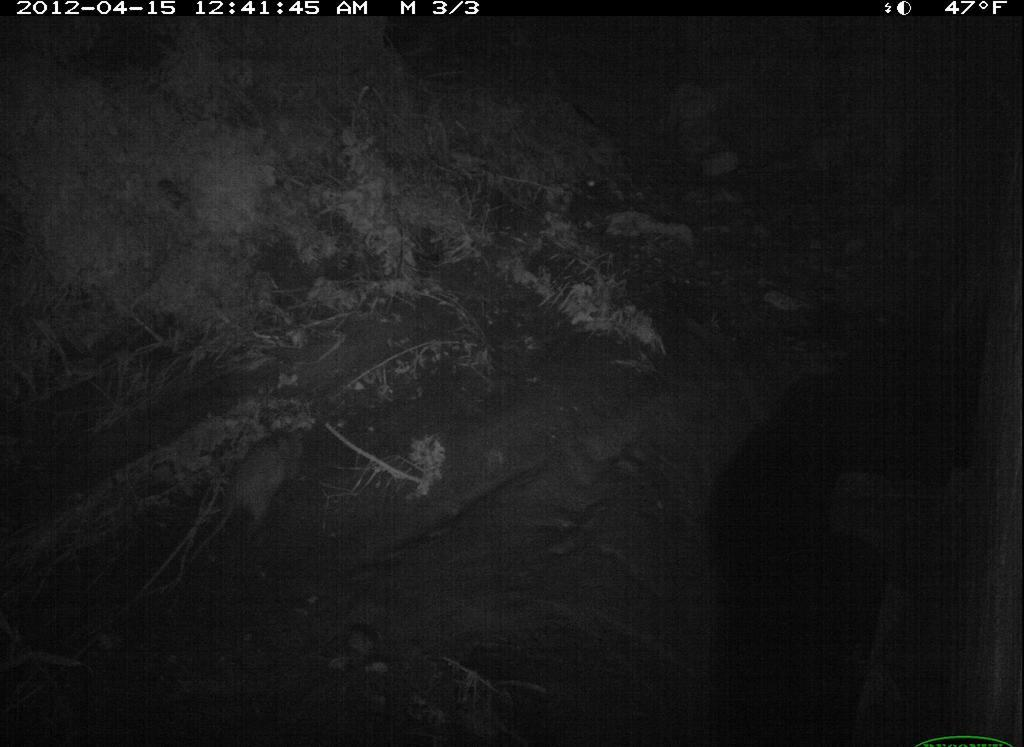opossum: (177, 420, 321, 552)
